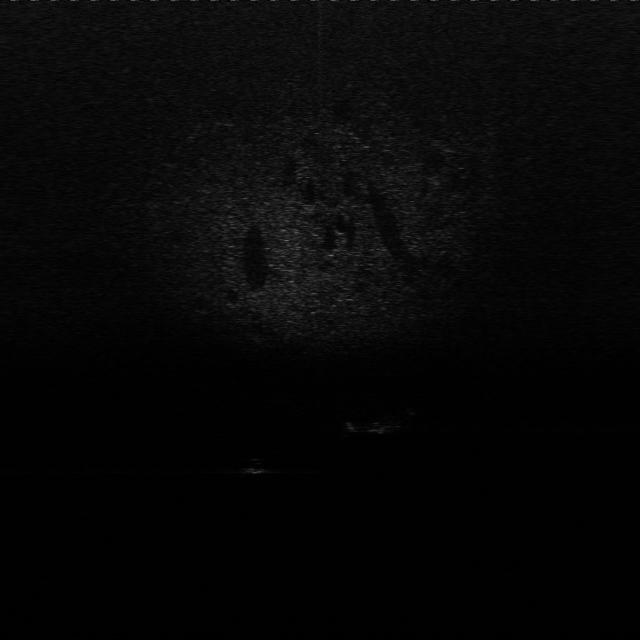ball: (238, 456, 271, 477)
human body: (342, 407, 424, 438)
